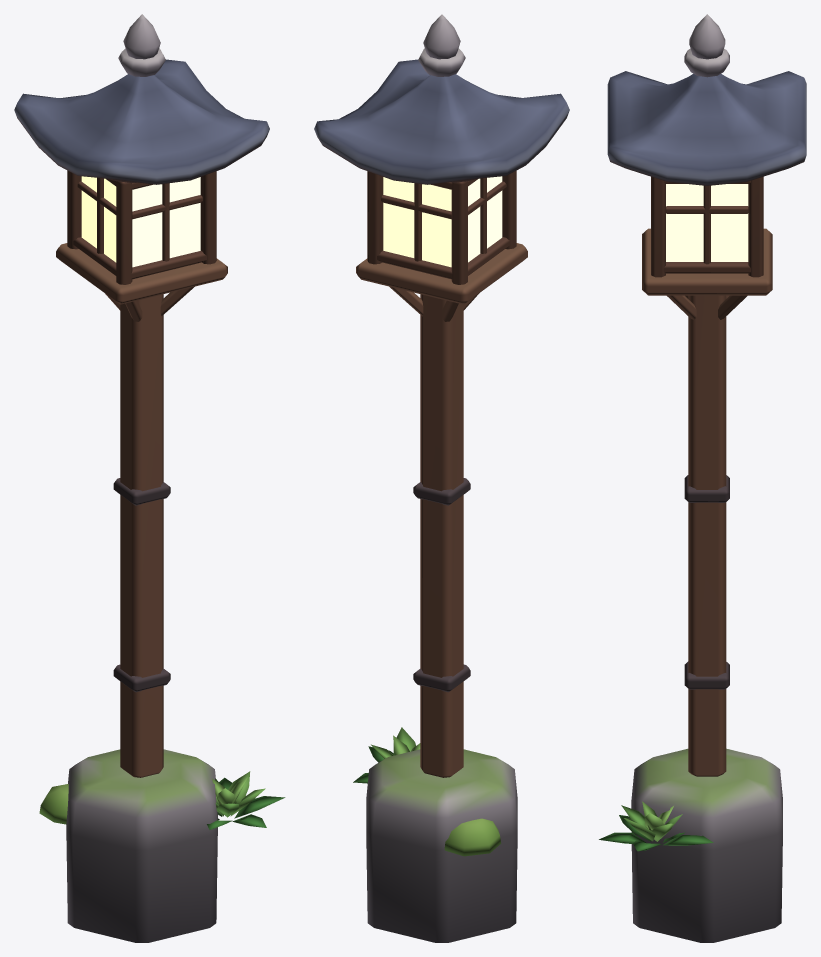
The model's file is streetLamp.glb.
3 views of the same model, side by side, from view 1: azimuth 30°, elevation 25°; view 2: azimuth 150°, elevation 25°; view 3: azimuth 270°, elevation 25° (orthographic).
Parts seen in each view (by area): view 1: streetLamp; view 2: streetLamp; view 3: streetLamp.
Part boxes in pixels (x1,y1,x2,y2): streetLamp: [14, 14, 285, 942]; streetLamp: [314, 14, 569, 942]; streetLamp: [599, 14, 806, 942].
Bounding box in the file's own units: 0.6555 × 2.88 × 0.6077.
